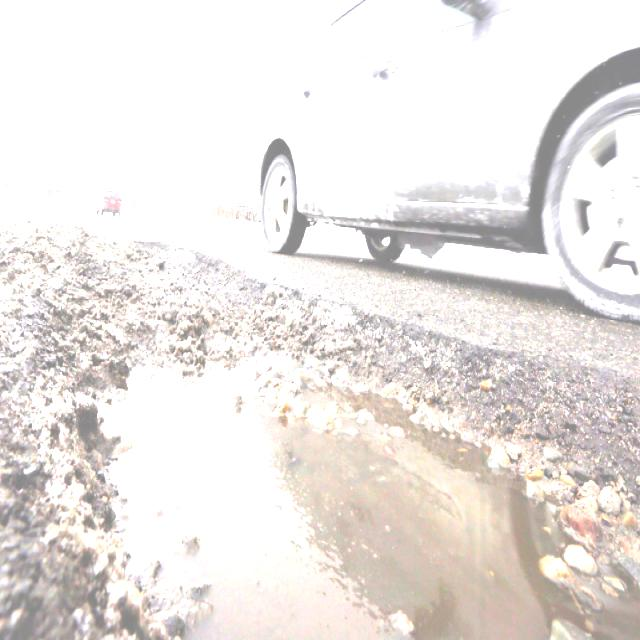Pothole: (24, 305, 640, 640)
